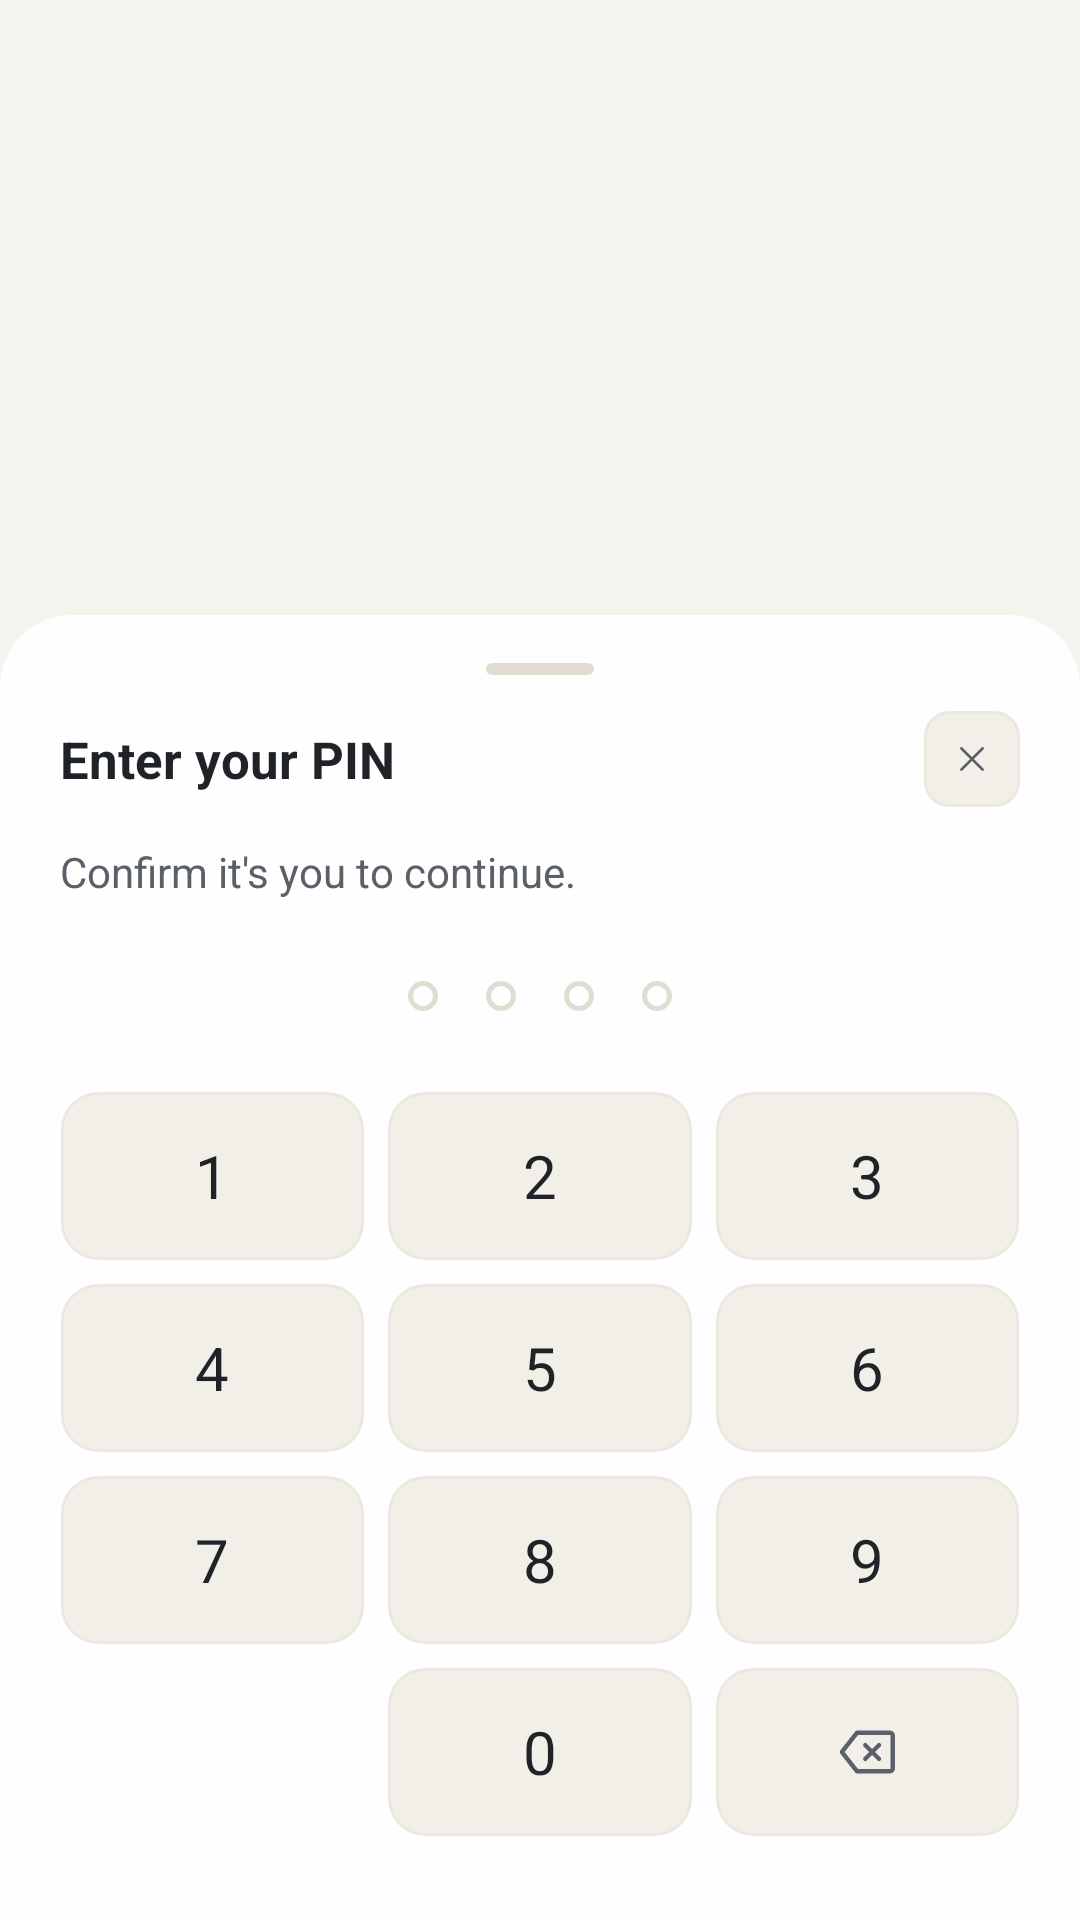

Where to tap for icons on this 1080 x 1920 app screen, as (x,y):
Close: (972,759)
Delete: (867,1752)
